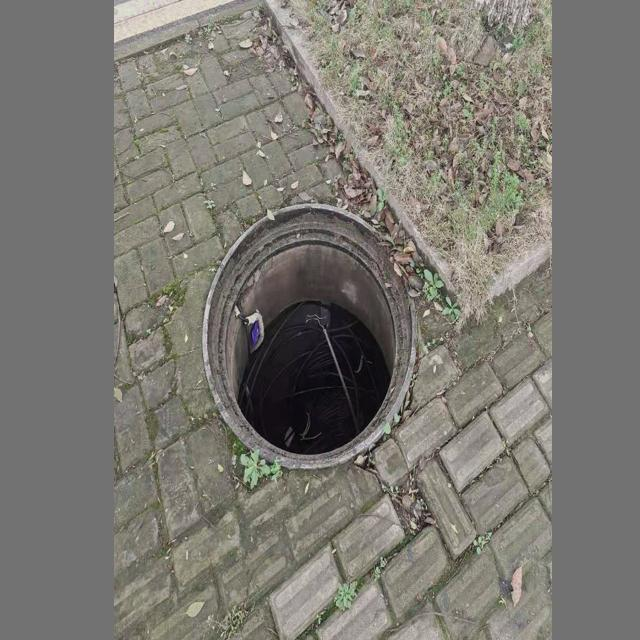lose: (204, 204, 419, 469)
